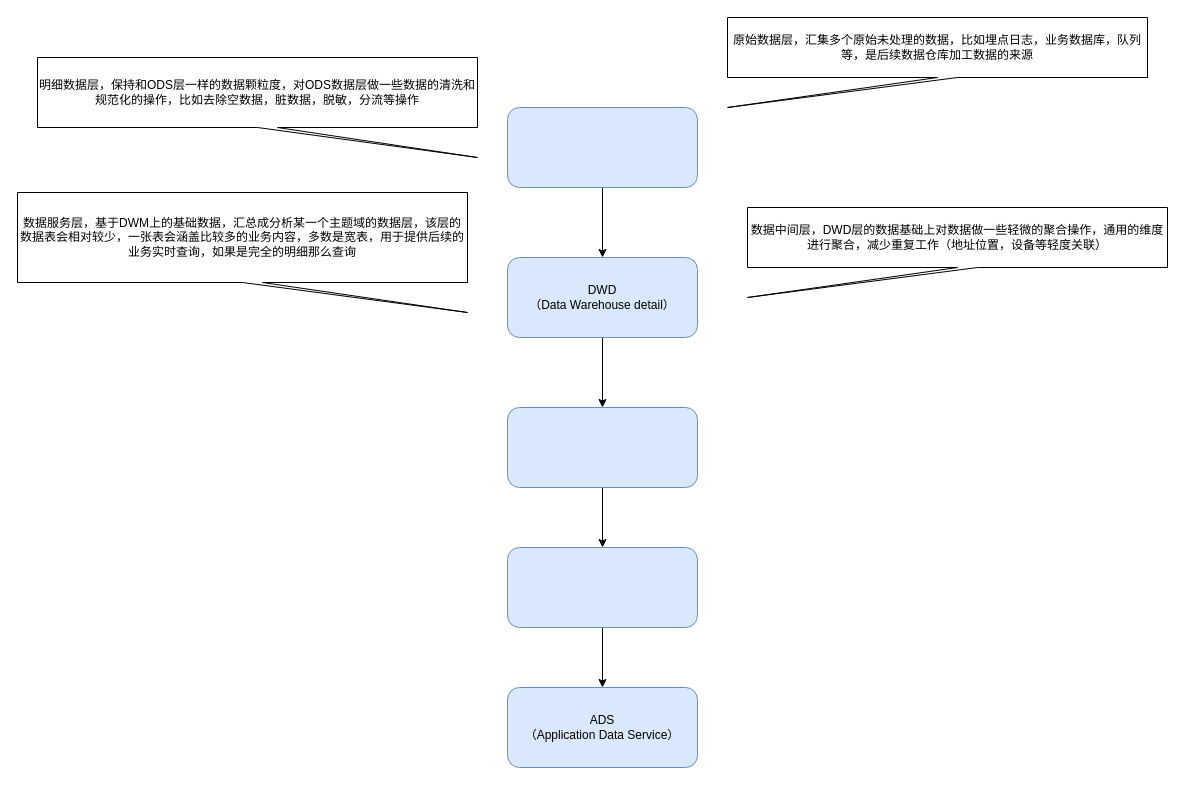
This 1185x785 diagram has some shape labels left out. The centre of each missing label's shape, as x and y in pixels:
"DWM （Data Warehouse Middle）" belongs at [602,447].
"DWS （Data Warehouse Service）" belongs at [602,587].
"ODS （Operation Data Store）" belongs at [602,147].
